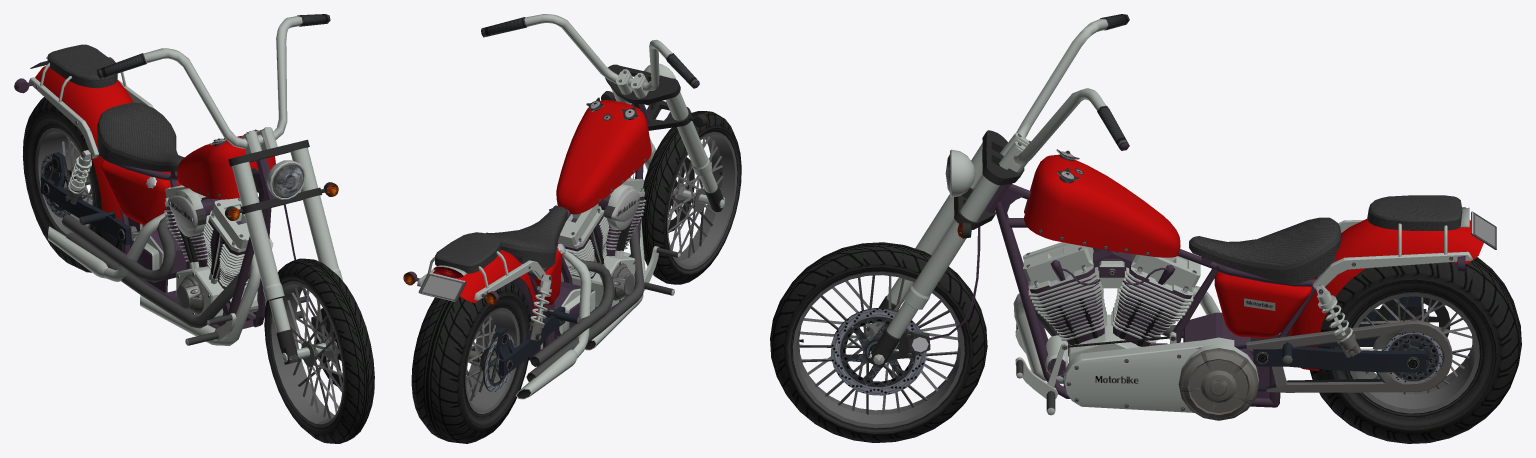
Rendered from Motorcycle_1.FBX.
3 views of the same model, side by side, from view 1: azimuth 30°, elevation 25°; view 2: azimuth 150°, elevation 25°; view 3: azimuth 270°, elevation 25° (orthographic). The views are drawn at different scales.
Visible parts, largest first — view 1: Body, Steer, Wheel_F, Wheel_B, Forks_rear; view 2: Body, Wheel_B, Wheel_F, Steer, Forks_rear; view 3: Body, Wheel_F, Wheel_B, Steer, Forks_rear.
Boxes of the visible parts, x1=… form: Body: x1=14, y1=44, x2=308, y2=345; Steer: x1=97, y1=14, x2=342, y2=364; Wheel_F: x1=264, y1=258, x2=374, y2=443; Wheel_B: x1=22, y1=97, x2=121, y2=272; Forks_rear: x1=41, y1=152, x2=137, y2=245; Body: x1=403, y1=97, x2=680, y2=399; Wheel_B: x1=411, y1=280, x2=530, y2=443; Wheel_F: x1=641, y1=111, x2=741, y2=284; Steer: x1=481, y1=14, x2=725, y2=211; Forks_rear: x1=468, y1=306, x2=580, y2=376; Body: x1=985, y1=149, x2=1496, y2=420; Wheel_F: x1=770, y1=242, x2=987, y2=442; Wheel_B: x1=1309, y1=257, x2=1521, y2=443; Steer: x1=867, y1=14, x2=1129, y2=368; Forks_rear: x1=1234, y1=296, x2=1452, y2=392.
Size of the model in its own units: 27.84 by 38.41 by 68.17.
4 materials, 2 textured.
